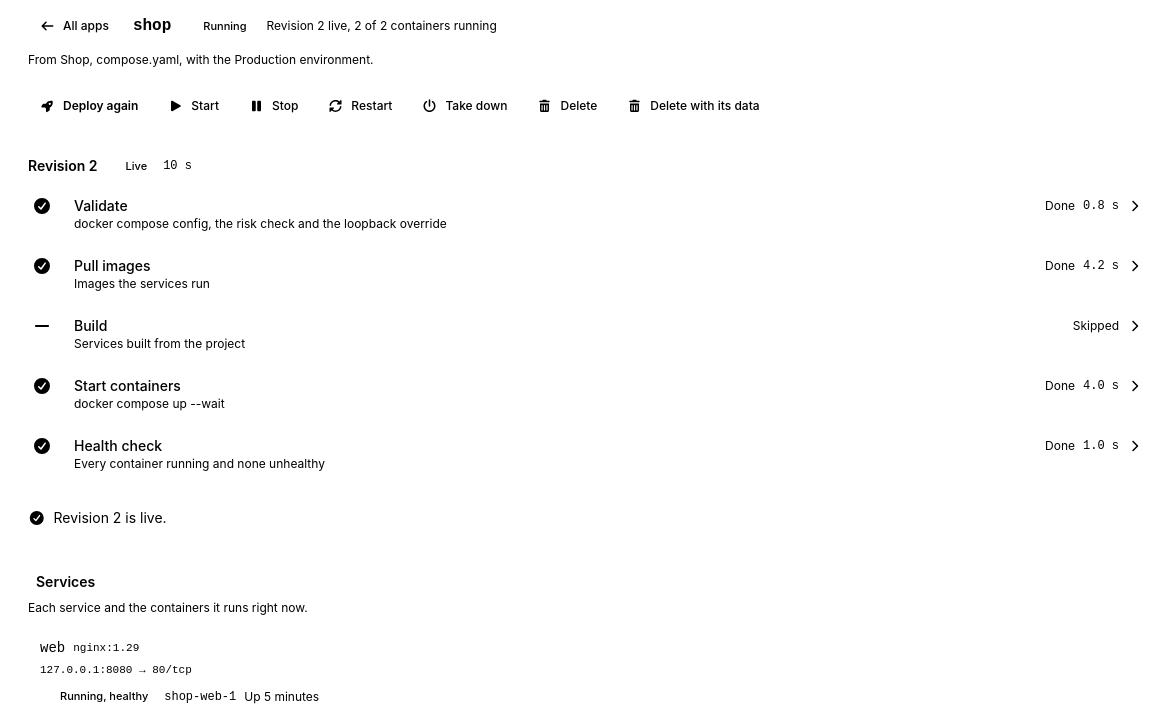
it: AppsPanel list › opens the wizard to deploy an app again from its page
Step 1. Click the button "Deploy again" → (89, 106), box [28, 92, 150, 120]
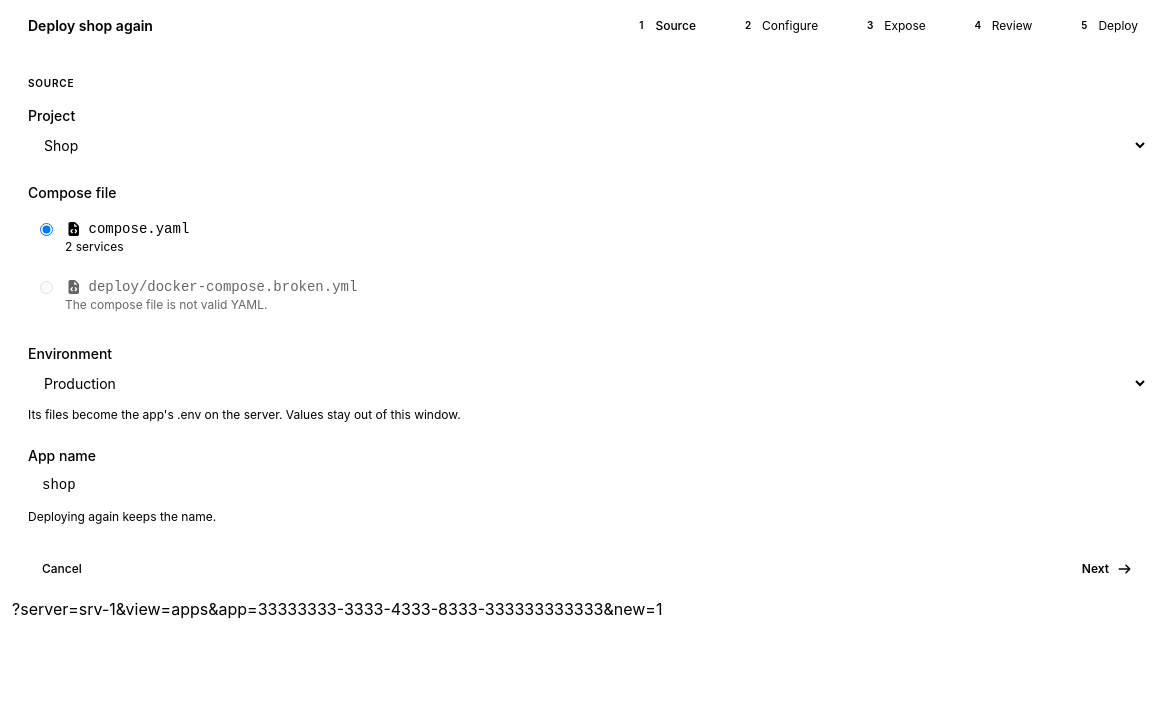
Result: the heading "Deploy shop again" is shown at [28, 17, 153, 34]
Result: the field labelled "App name" holds "shop" at [28, 467, 1148, 503]
Step 2. Click the button "Cancel" → (62, 569), box [28, 553, 96, 585]
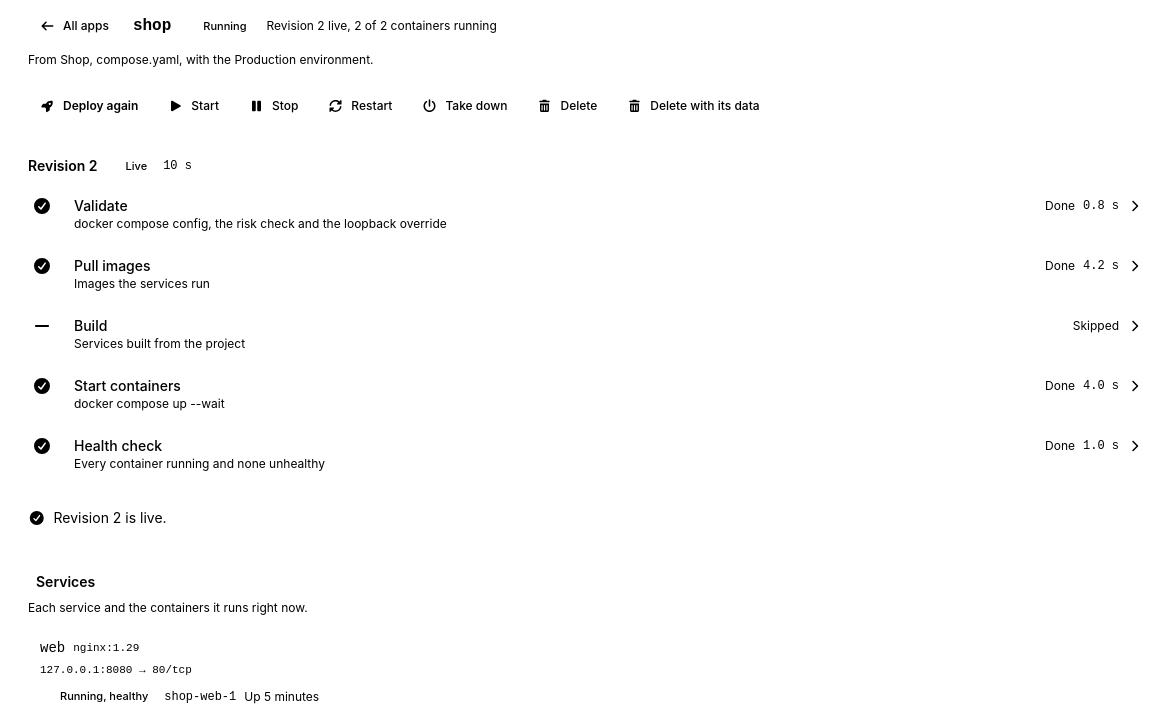
Result: the heading "shop" is shown at [133, 14, 171, 38]
